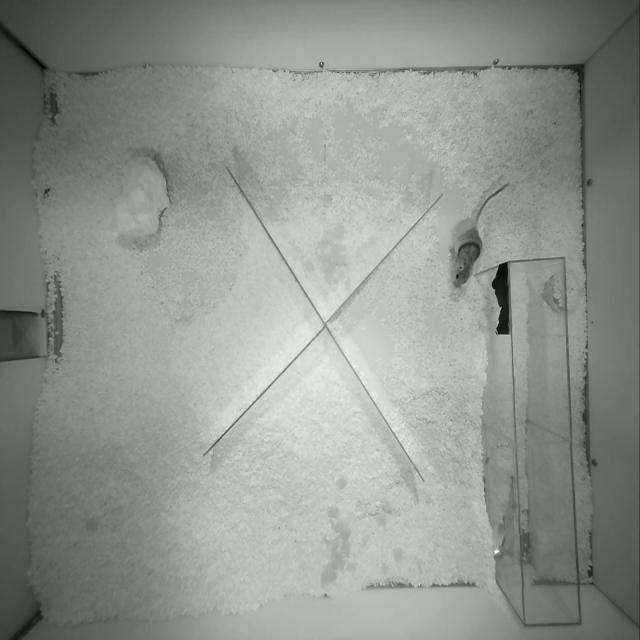adult_front: (453, 183, 508, 286)
